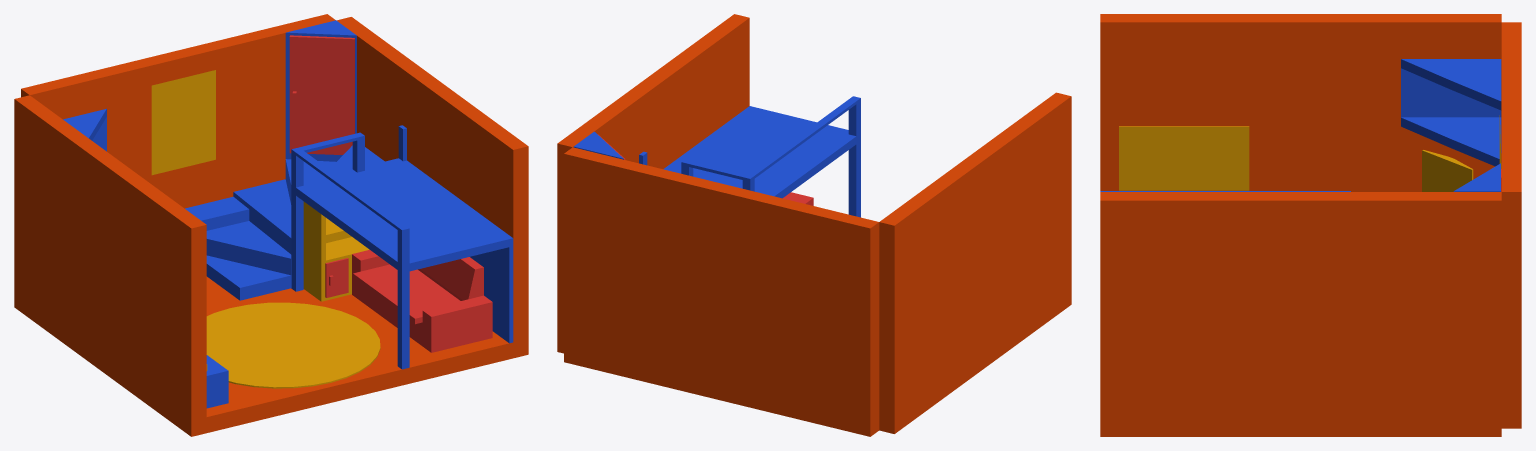
File: minimalist_blockout.fbx
3 renders of one model, left to right at view 1: azimuth 30°, elevation 25°; view 2: azimuth 150°, elevation 25°; view 3: azimuth 270°, elevation 25°, orthographic. The views are drawn at different scales.
Parts seen in each view (by area): view 1: Floor, Bed, Rug, Stairs, Sofa, Cupboard, Painting, Bookshelf, TVUnit, Shelf1, Drawer2; view 2: Floor, Bed, Stairs; view 3: Floor, Shelf1, TV, PC, Stairs.
Boxes of the visible parts, bbox=[...] form: Floor: bbox=[14, 14, 528, 436]; Bed: bbox=[291, 125, 513, 369]; Rug: bbox=[206, 302, 380, 388]; Stairs: bbox=[185, 20, 384, 300]; Sofa: bbox=[352, 250, 492, 352]; Cupboard: bbox=[289, 35, 354, 154]; Painting: bbox=[151, 70, 215, 175]; Bookshelf: bbox=[303, 201, 369, 301]; TVUnit: bbox=[206, 355, 228, 408]; Shelf1: bbox=[63, 108, 106, 151]; Drawer2: bbox=[325, 258, 348, 297]; Floor: bbox=[557, 14, 1071, 436]; Bed: bbox=[639, 96, 860, 217]; Stairs: bbox=[573, 131, 623, 159]; Floor: bbox=[1100, 14, 1521, 436]; Shelf1: bbox=[1401, 59, 1501, 166]; TV: bbox=[1119, 126, 1249, 190]; PC: bbox=[1422, 150, 1473, 191]; Stairs: bbox=[1453, 163, 1500, 191].
Size of the model in its own units: 4400 by 2607 by 4200.
